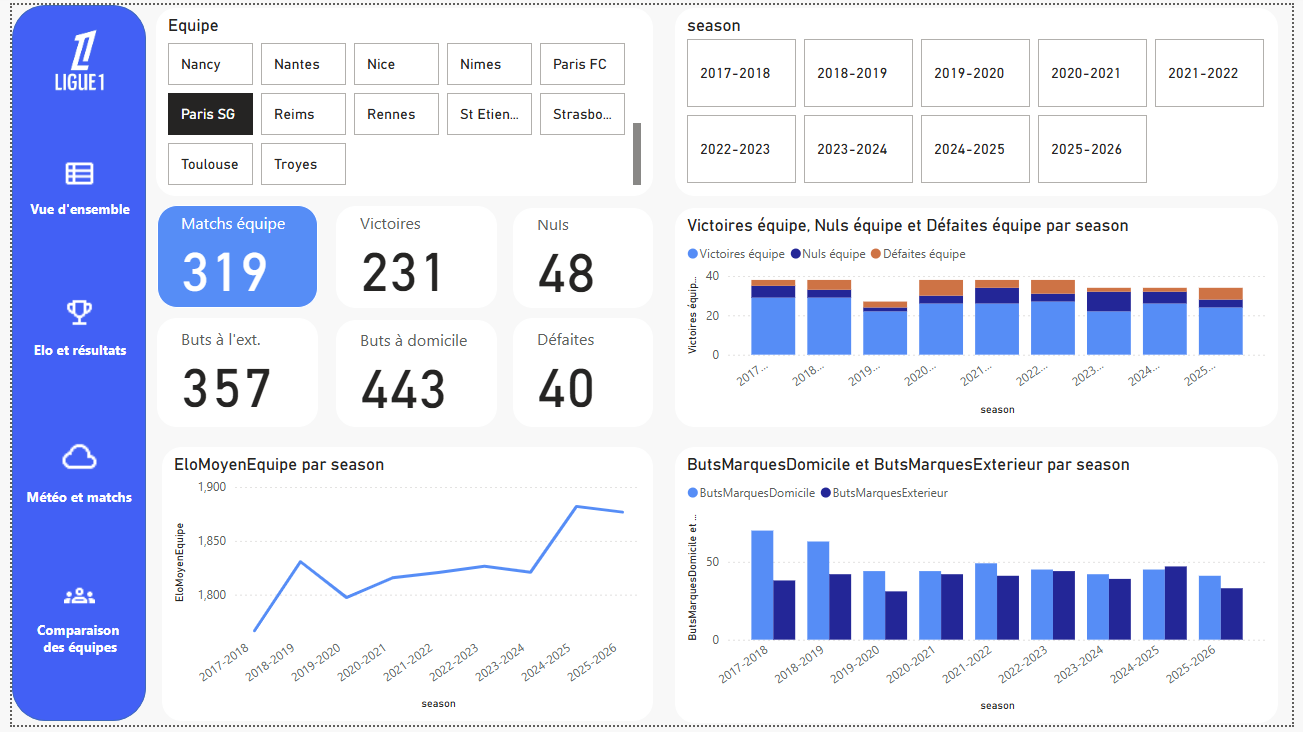

The dashboard page shown, as its layout file describes it:
{"tool":"powerbi","page":{"name":"Comparaison des équipes","canvas":[1280,720],"ordinal":3},"visuals":[{"type":"advancedSlicerVisual","fields":{"Values":["Equipes.Equipe"]},"box":[143.8,3,496.7,187.8],"z":0},{"type":"cardVisual","fields":{"Data":["Equipes.Matchs équipe"]},"box":[145.4,199.9,160.5,103],"z":1000},{"type":"cardVisual","fields":{"Data":["Equipes.Victoires équipe"]},"box":[324,201.4,160.5,101.5],"z":2000},{"type":"cardVisual","fields":{"Data":["Equipes.Défaites équipe"]},"box":[501.2,313.4,139.3,109],"z":3000},{"type":"cardVisual","fields":{"Data":["Equipes.Nuls équipe"]},"box":[501.2,202.9,139.3,99.9],"z":4000},{"type":"cardVisual","fields":{"Data":["Equipes.ButsMarquesDomicile"]},"box":[324,315,160.5,107.5],"z":5000},{"type":"cardVisual","fields":{"Data":["Equipes.ButsMarquesExterieur"]},"box":[145.4,313.4,160.5,109],"z":6000},{"type":"columnChart","fields":{"Category":["public v_match_analysis.season"],"Y":["Equipes.Victoires équipe","Equipes.Nuls équipe","Equipes.Défaites équipe"]},"box":[663.2,202.9,602.7,219.6],"z":7000},{"type":"advancedSlicerVisual","fields":{"Values":["public v_match_analysis.season"]},"box":[663.2,3,602.7,187.8],"z":8000},{"type":"clusteredColumnChart","fields":{"Category":["public v_match_analysis.season"],"Y":["Equipes.ButsMarquesDomicile","Equipes.ButsMarquesExterieur"]},"box":[663.2,442.1,602.7,275.6],"z":9000},{"type":"lineChart","fields":{"Category":["public v_match_analysis.season"],"Y":["public v_match_analysis.EloMoyenEquipe"]},"box":[149.9,442.1,490.6,274.1],"z":10000},{"type":"shape","box":[0,0,134.3,715.7],"z":11000},{"type":"image","box":[20,1.4,94.3,107.1],"z":12000}]}

Visuals, with their boxes in screenshot pixels (x1, y1, x2, y2), scaled from the page's 1280x720 canvas onto the 1303x732 screenshot:
advancedSlicerVisual - Equipes.Equipe: 146:3:652:194
cardVisual - Equipes.Matchs équipe: 148:203:311:308
cardVisual - Equipes.Victoires équipe: 330:205:493:308
cardVisual - Equipes.Défaites équipe: 510:319:652:429
cardVisual - Equipes.Nuls équipe: 510:206:652:308
cardVisual - Equipes.ButsMarquesDomicile: 330:320:493:430
cardVisual - Equipes.ButsMarquesExterieur: 148:319:311:429
columnChart - public v_match_analysis.season x Equipes.Victoires équipe: 675:206:1289:430
advancedSlicerVisual - public v_match_analysis.season: 675:3:1289:194
clusteredColumnChart - public v_match_analysis.season x Equipes.ButsMarquesDomicile: 675:449:1289:730
lineChart - public v_match_analysis.season x public v_match_analysis.EloMoyenEquipe: 153:449:652:728
shape: 0:0:137:728
image: 20:1:116:110
